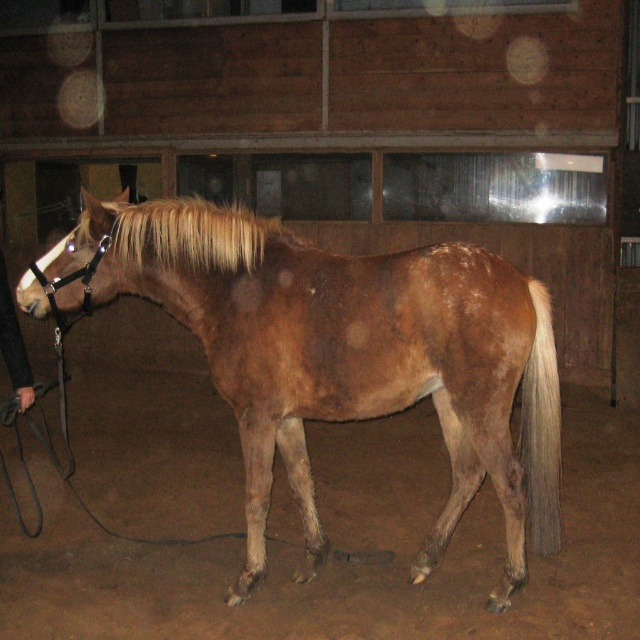Horse: (15, 186, 565, 616)
